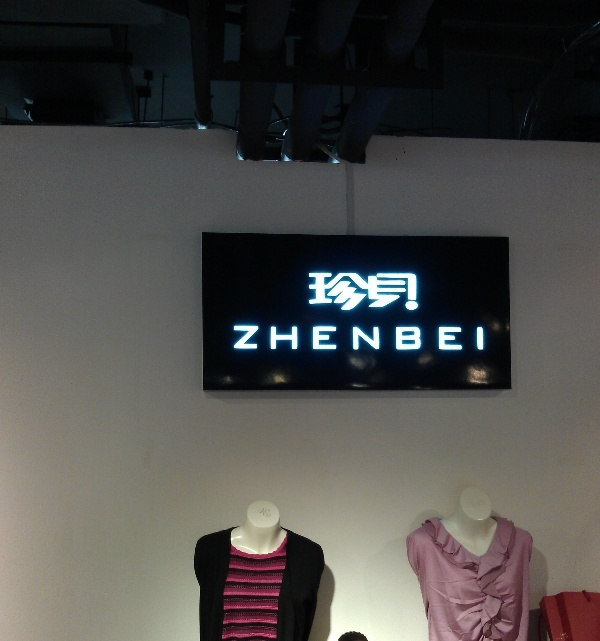text: (321, 272, 336, 311), (337, 272, 352, 311), (353, 272, 368, 311), (369, 272, 384, 311), (385, 272, 400, 311), (401, 272, 416, 311), (308, 272, 320, 311), (241, 325, 256, 352), (257, 325, 272, 352), (273, 325, 288, 352), (289, 325, 304, 352), (305, 325, 320, 352), (321, 325, 336, 352), (337, 325, 352, 352), (353, 325, 368, 352), (369, 325, 384, 352), (385, 325, 400, 352), (401, 325, 416, 352), (417, 325, 432, 352), (433, 325, 448, 352), (449, 325, 464, 352), (465, 325, 480, 352), (233, 325, 240, 352), (481, 325, 485, 352), (417, 272, 418, 311)
